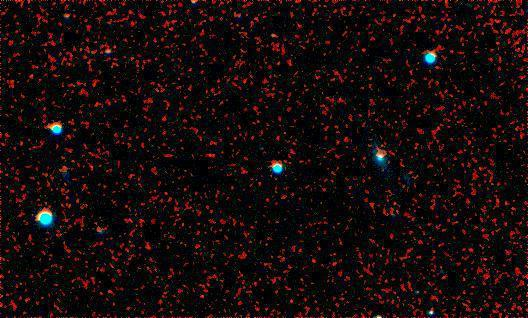star: (416, 297, 446, 318)
